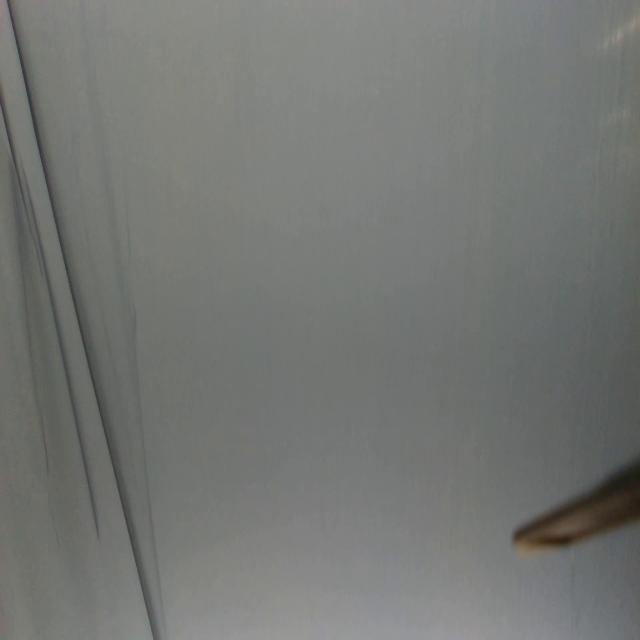crease: (0, 0, 156, 639), (15, 221, 49, 466)
